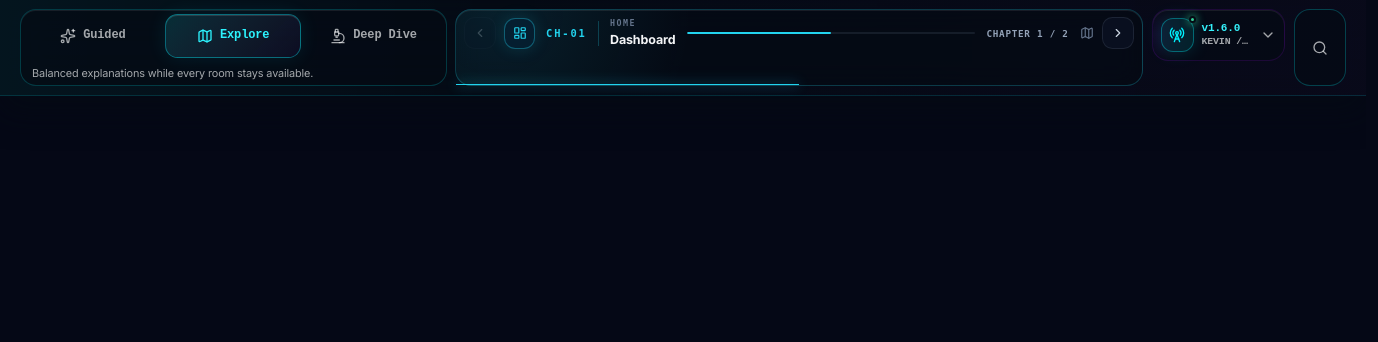
Test case: ExpeditionConsole › shows separate listening, enrichment and pulse dates for a reviewed snapshot
Click the button with test id "archive-capsule-trigger": (1218, 35) [1152,9,1285,61]
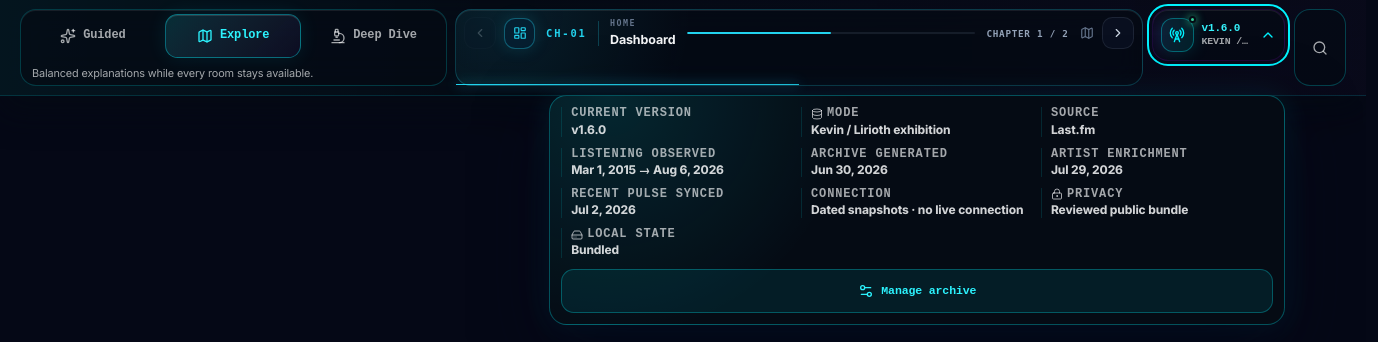
Expected: the element with test id "archive-capsule-panel" shows "Dated snapshots · no live connection", [811,202,1024,217]
